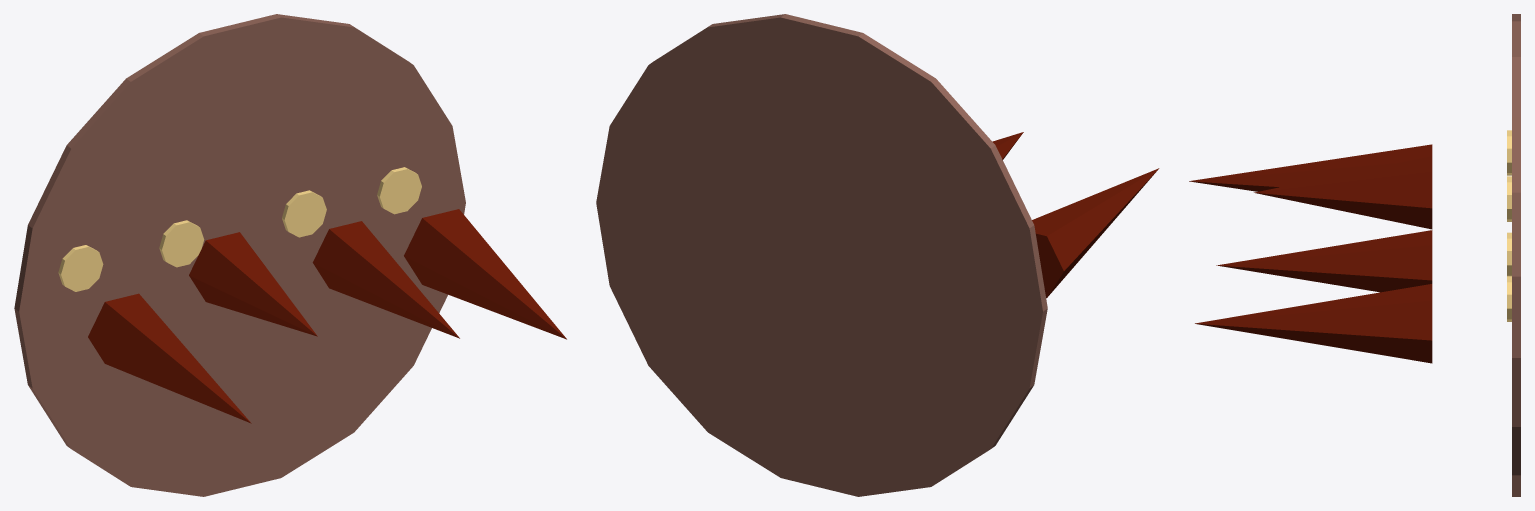
File: 02_local_prop_cluster.glb
3 renders of one model, left to right at view 1: azimuth 30°, elevation 25°; view 2: azimuth 150°, elevation 25°; view 3: azimuth 270°, elevation 25°, orthographic. The views are drawn at different scales.
Parts seen in each view (by area): view 1: scatter_base, basalt_shard_3, basalt_shard_0, basalt_shard_2, basalt_shard_1, lava_glow_2, lava_glow_1, lava_glow_0, lava_glow_3; view 2: scatter_base, basalt_shard_0; view 3: basalt_shard_3, basalt_shard_2, basalt_shard_1, scatter_base, basalt_shard_0.
Boxes of the visible parts, x1,y1,x2,y2 form: scatter_base: (14, 14, 465, 496); basalt_shard_3: (404, 209, 566, 339); basalt_shard_0: (88, 293, 251, 423); basalt_shard_2: (312, 221, 459, 338); basalt_shard_1: (189, 232, 317, 336); lava_glow_2: (282, 190, 326, 237); lava_glow_1: (159, 220, 204, 267); lava_glow_0: (58, 245, 103, 291); lava_glow_3: (377, 167, 421, 214); scatter_base: (596, 14, 1047, 496); basalt_shard_0: (1032, 168, 1159, 297); basalt_shard_3: (1195, 284, 1432, 363); basalt_shard_2: (1216, 230, 1432, 292); basalt_shard_1: (1254, 156, 1432, 229); scatter_base: (1512, 14, 1520, 496); basalt_shard_0: (1189, 144, 1432, 191).
Bounding box in the file's own units: 1.9 × 1.87 × 1.3.
